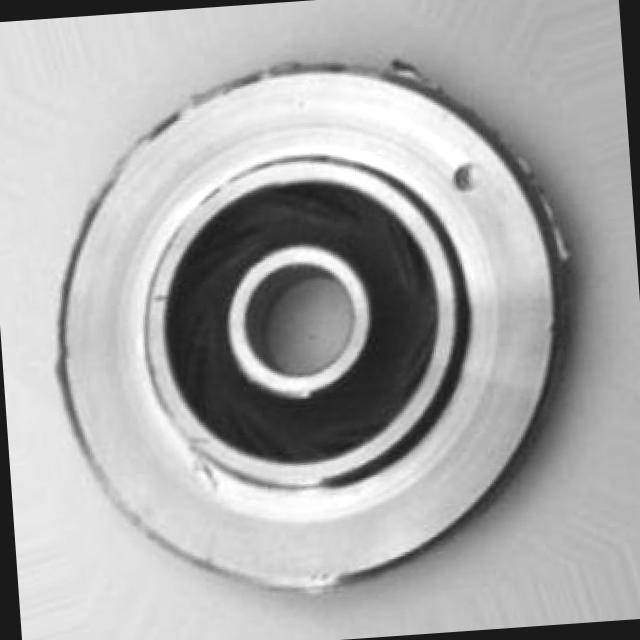Defect: (444, 154, 491, 192)
